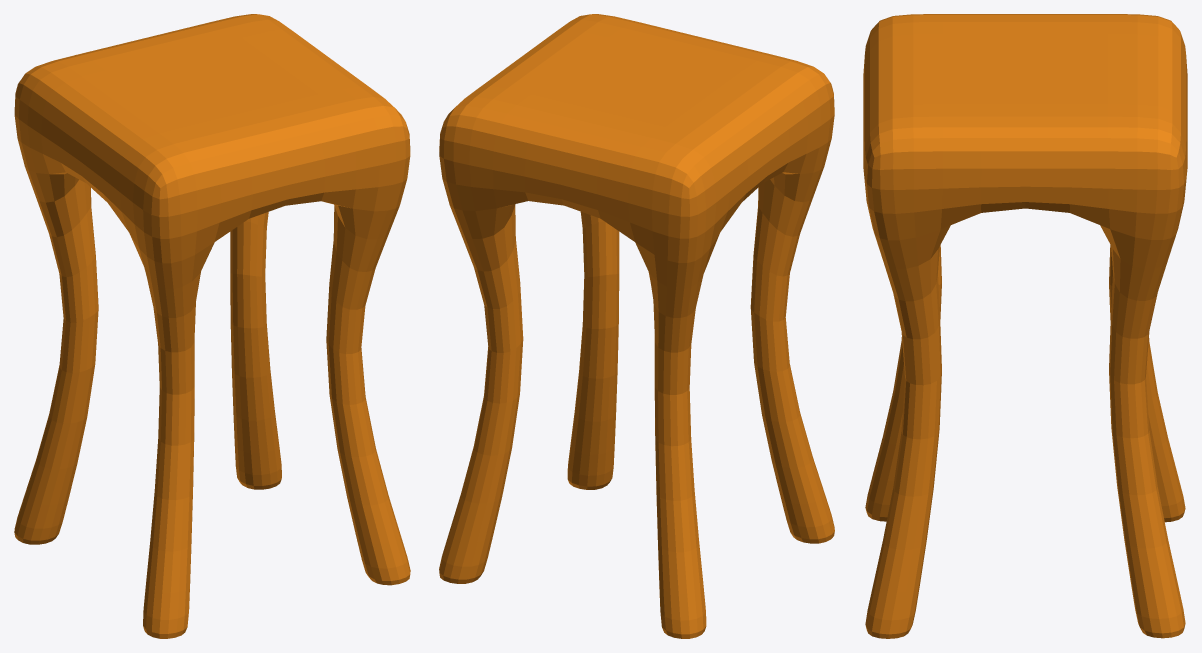
File: Meja Hiasan.fbx
3 renders of one model, left to right at view 1: azimuth 30°, elevation 25°; view 2: azimuth 150°, elevation 25°; view 3: azimuth 270°, elevation 25°, orthographic. The views are drawn at different scales.
Parts seen in each view (by area): view 1: meja hias; view 2: meja hias; view 3: meja hias.
Part boxes in pixels (x1=…): meja hias: x1=14, y1=14, x2=410, y2=638; meja hias: x1=439, y1=14, x2=834, y2=638; meja hias: x1=863, y1=14, x2=1187, y2=638.
Bounding box in the file's own units: 44.27 × 75.88 × 44.27.
